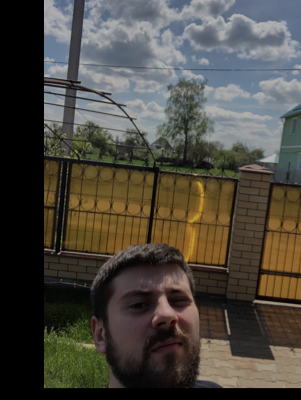without_mask: (110, 277, 198, 388)
